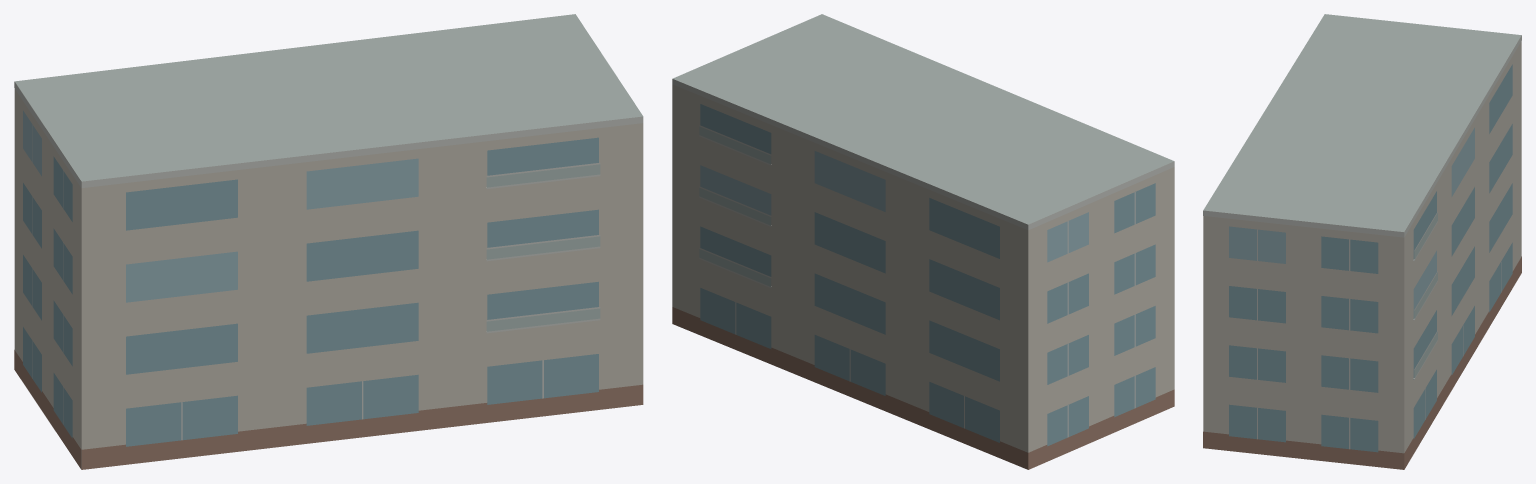
Rendered from survey-upis-32746841.glb.
3 views of the same model, side by side, from view 1: azimuth 30°, elevation 25°; view 2: azimuth 150°, elevation 25°; view 3: azimuth 270°, elevation 25° (orthographic). The views are drawn at different scales.
Visible parts, largest first — view 1: survey-upis-32746841.tmp; view 2: survey-upis-32746841.tmp; view 3: survey-upis-32746841.tmp.
Part boxes in pixels (x1,y1,x2,y2): survey-upis-32746841.tmp: (14,14,643,469); survey-upis-32746841.tmp: (672,14,1174,469); survey-upis-32746841.tmp: (1203,14,1521,469).
Size of the model in its own units: 20.97 by 10.65 by 12.95.
